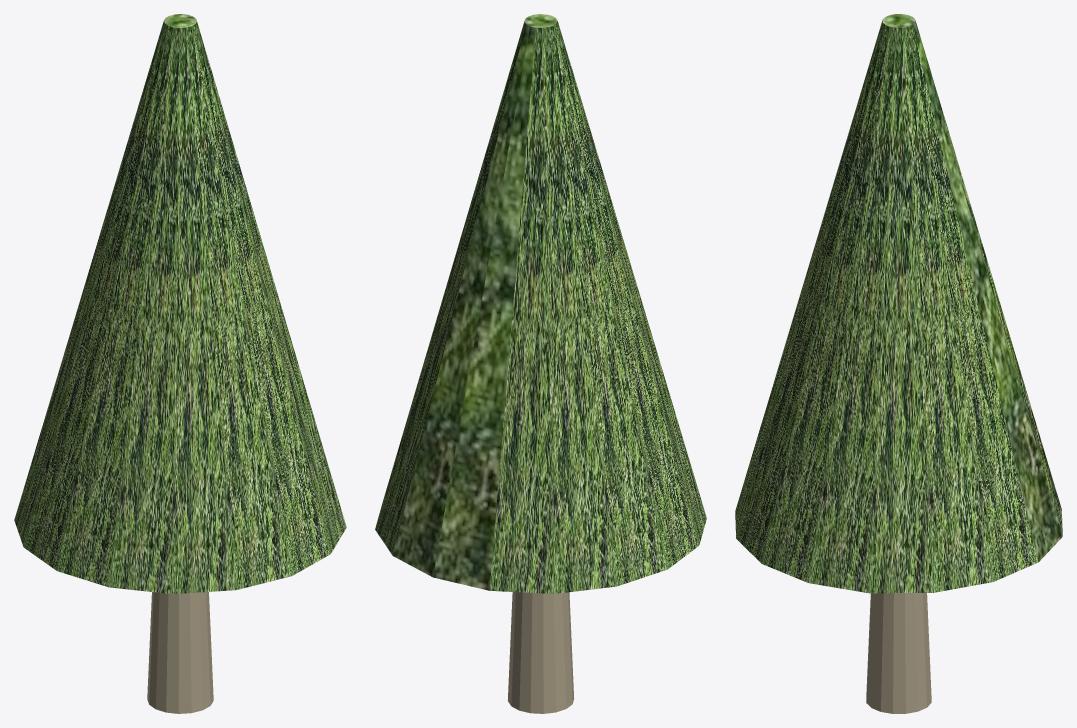
The model's file is GMLID_SO086970_1053_8814.gltf.
3 views of the same model, side by side, from view 1: azimuth 30°, elevation 25°; view 2: azimuth 150°, elevation 25°; view 3: azimuth 270°, elevation 25° (orthographic).
Visible parts, largest first — view 1: Z_UP; view 2: Z_UP; view 3: Z_UP.
Boxes of the visible parts, box(x1,y1,x2,y2) form: Z_UP: box(14, 14, 346, 713); Z_UP: box(375, 14, 706, 713); Z_UP: box(735, 14, 1062, 713).
Size of the model in its own units: 6.58 by 15.07 by 6.58.
3 materials, 1 textured.
